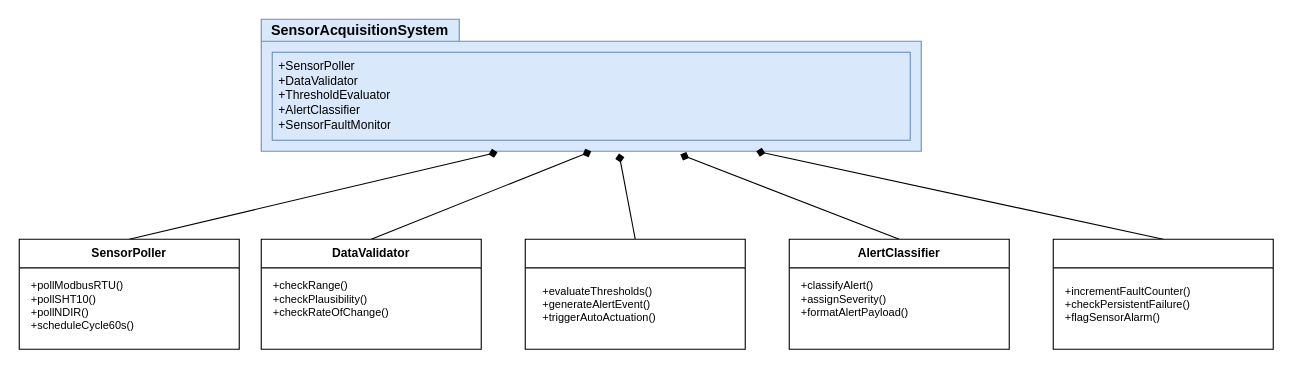
This 1293x372 diagram has some shape labels left out. Each missing label, with the box of its shape:
SensorFaultMonitor: (1052, 238, 1273, 349)
ThresholdEvaluator: (524, 238, 745, 349)
